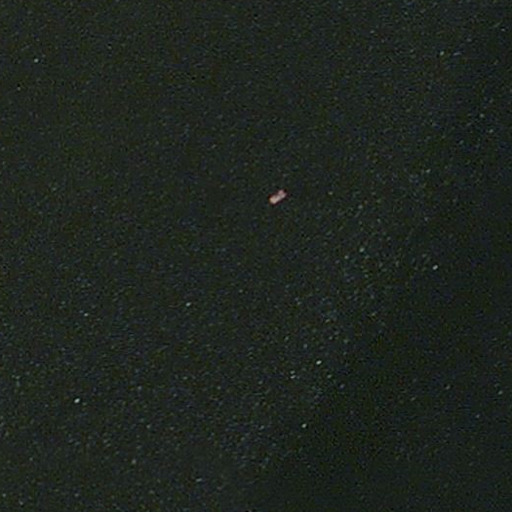ship: (265, 185, 289, 209)
